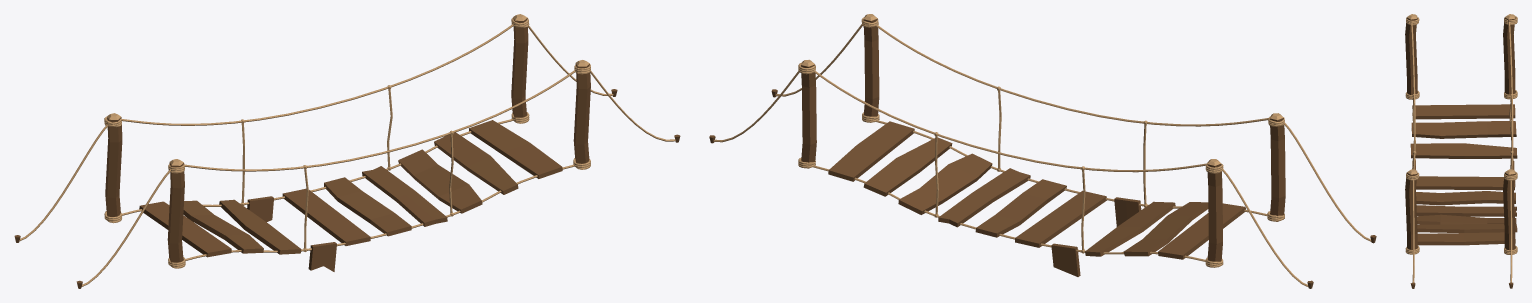
Rendered from bridge#001.glb.
The picture shows the model from 3 angles, left to right: view 1: azimuth 30°, elevation 25°; view 2: azimuth 150°, elevation 25°; view 3: azimuth 270°, elevation 25°; orthographic projection. The views are drawn at different scales.
Parts seen in each view (by area): view 1: Bridge1; view 2: Bridge1; view 3: Bridge1.
Boxes of the visible parts, <box> form: Bridge1: <box>14,14,680,288</box>; Bridge1: <box>709,14,1376,288</box>; Bridge1: <box>1405,14,1517,288</box>.
Size of the model in its own units: 18.55 by 4.41 by 3.83.
